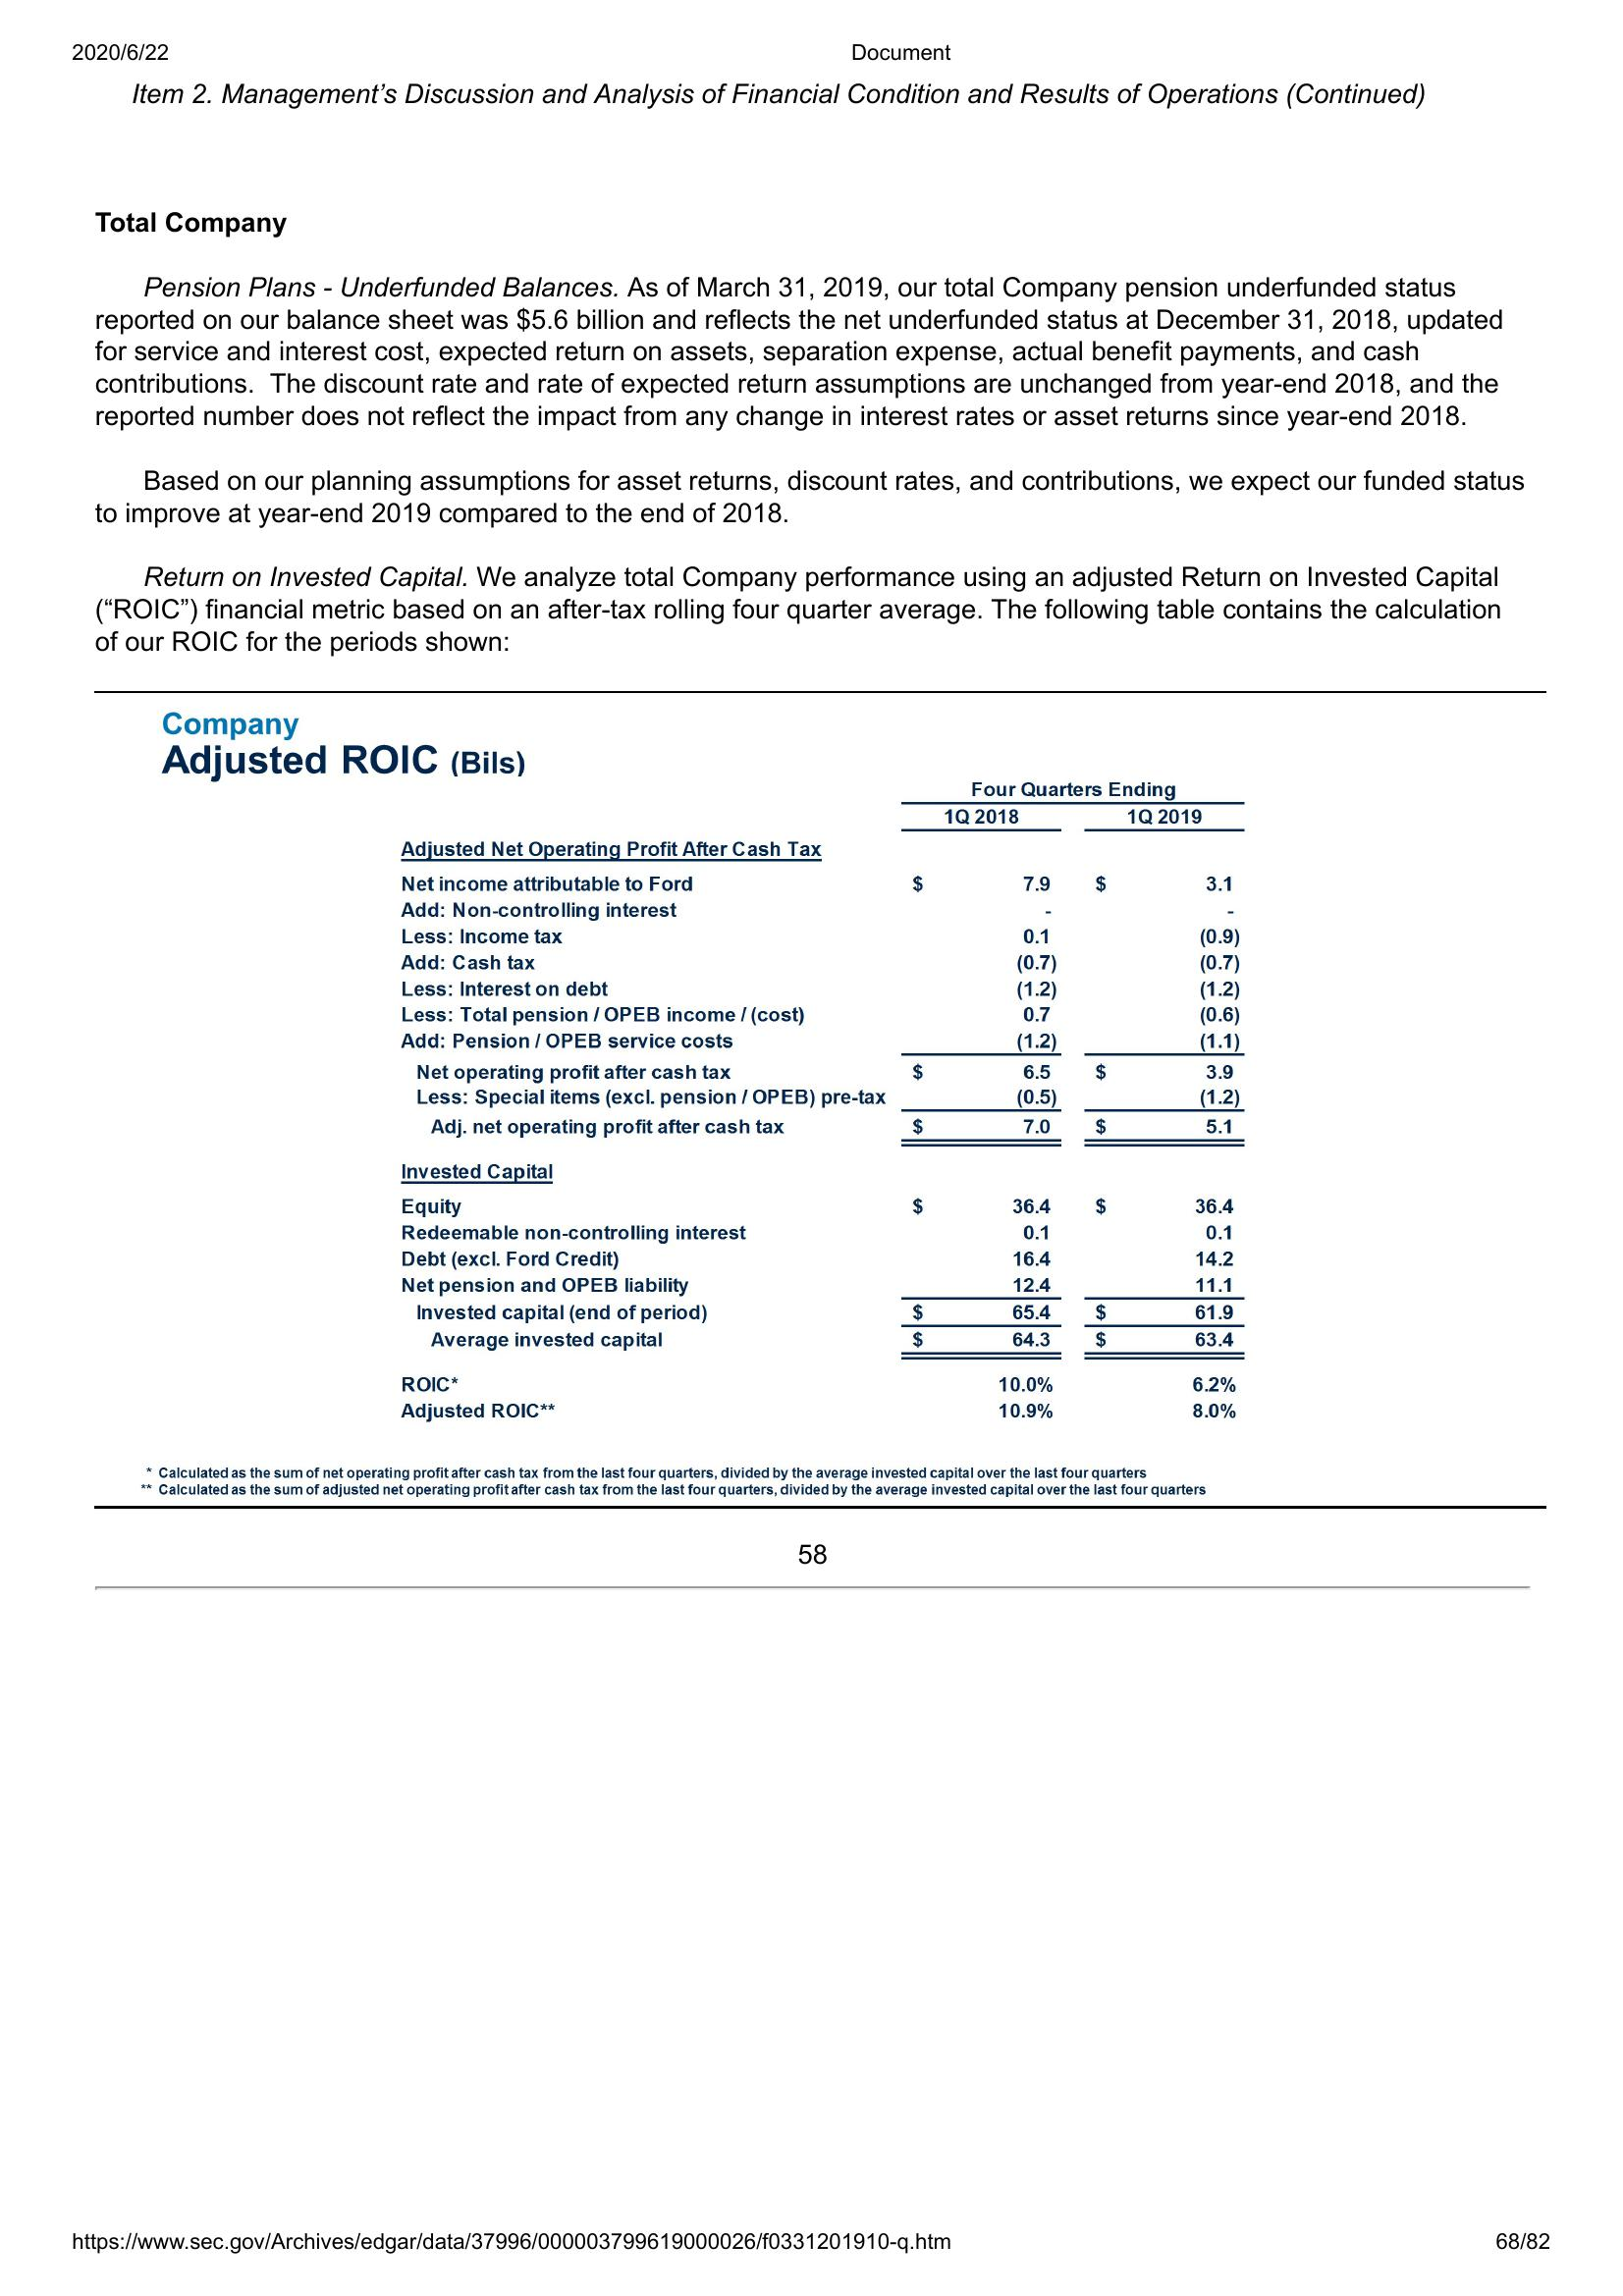table: (390, 778, 1245, 1432)
